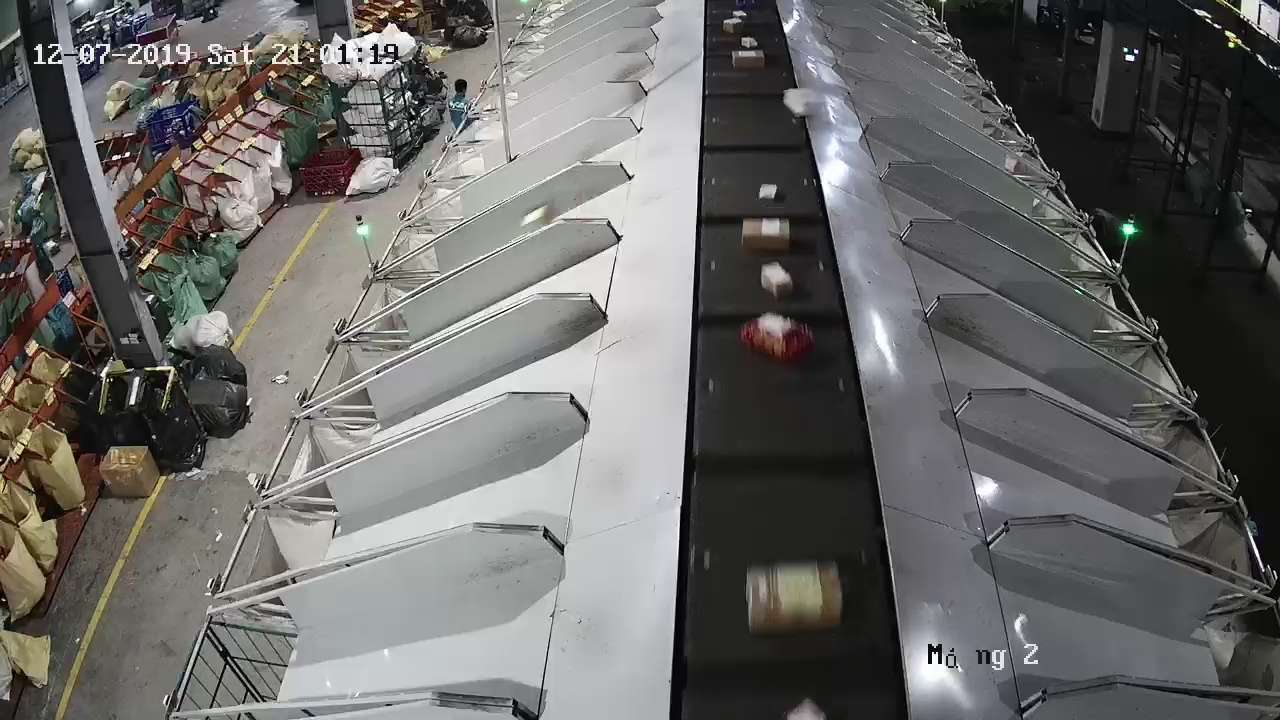parcel: (782, 87, 824, 118)
